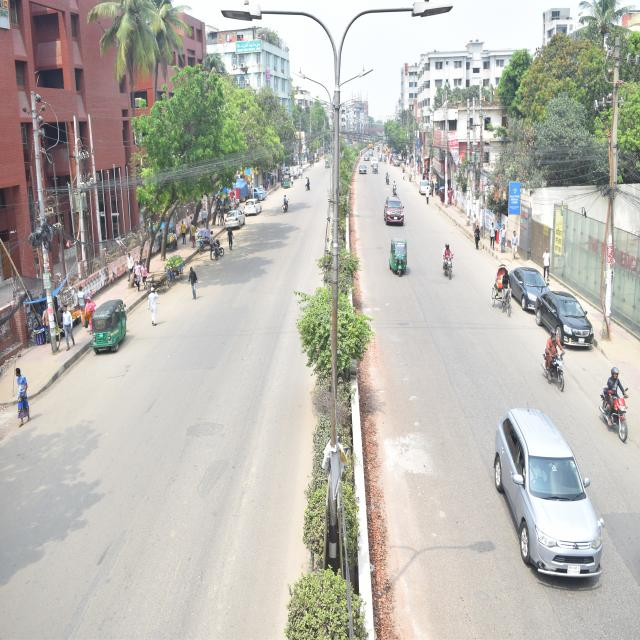car: (484, 387, 614, 590), (534, 275, 602, 353), (509, 258, 555, 311), (378, 186, 408, 230), (226, 195, 247, 235), (236, 186, 262, 218), (354, 160, 372, 180), (290, 162, 306, 177), (364, 152, 378, 168)
motorbike: (592, 346, 640, 452), (529, 306, 575, 407), (197, 215, 231, 278), (433, 230, 467, 292), (270, 193, 292, 227), (388, 170, 405, 200), (299, 171, 314, 196), (378, 165, 392, 188)
